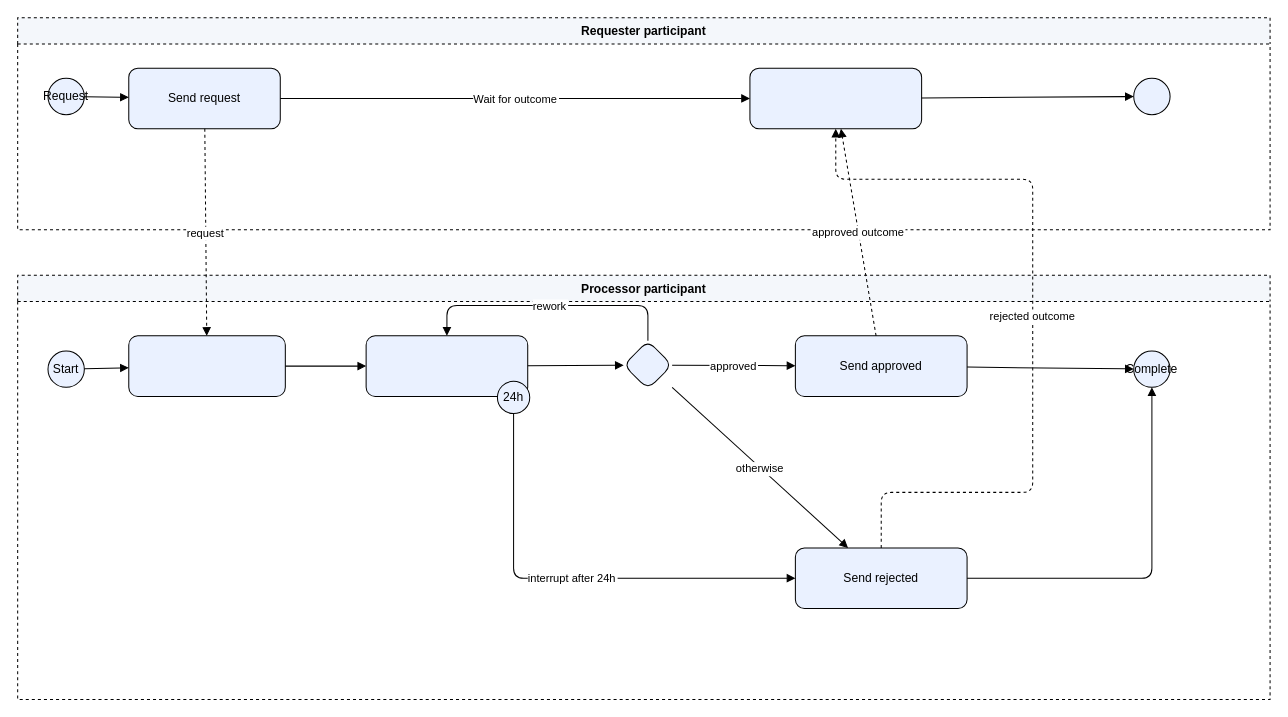
Image size: 1288x717. Some labels were removed from this diagram. Here are the shapes that lost their labels. From the top down, the centre of each, then its label:
(835,98): Receive outcome
(1151,96): Done
(206,365): Receive request
(446,365): Review request
(647,364): Decision
